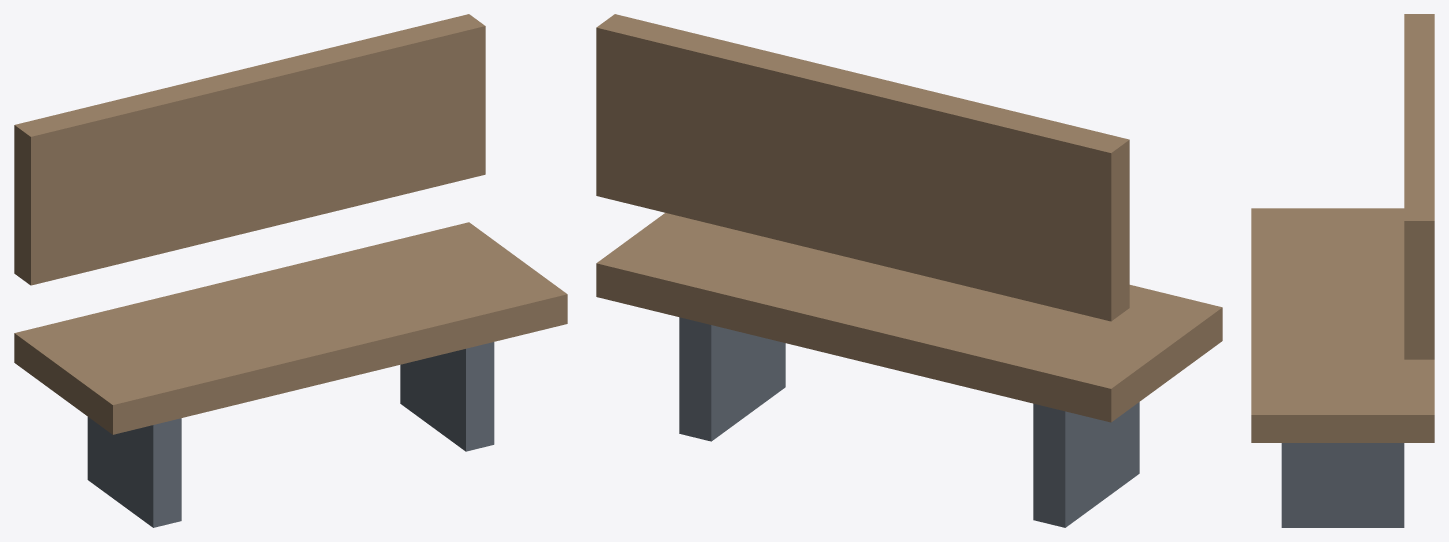
Rendered from prop_bench.glb.
3 views of the same model, side by side, from view 1: azimuth 30°, elevation 25°; view 2: azimuth 150°, elevation 25°; view 3: azimuth 270°, elevation 25° (orthographic). The views are drawn at different scales.
Visible parts, largest first — view 1: prop_bench-col; view 2: prop_bench-col; view 3: prop_bench-col.
Boxes of the visible parts, bbox=[...] form: prop_bench-col: bbox=[14, 14, 567, 527]; prop_bench-col: bbox=[596, 14, 1222, 527]; prop_bench-col: bbox=[1251, 14, 1434, 527].
Bounding box in the file's own units: 2 × 1.5 × 0.75.
